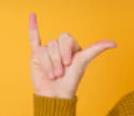clockwise: (29, 8, 118, 97)
